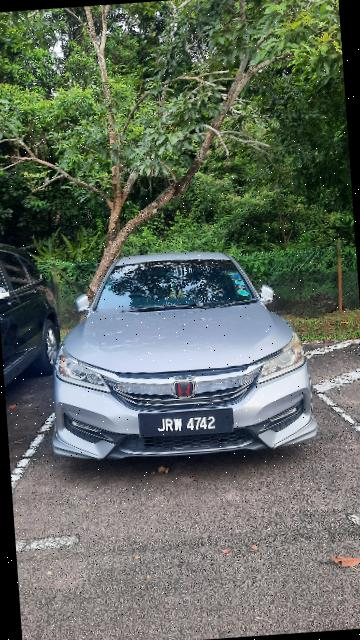License_Plate: (138, 405, 235, 443)
car: (37, 239, 319, 466)
